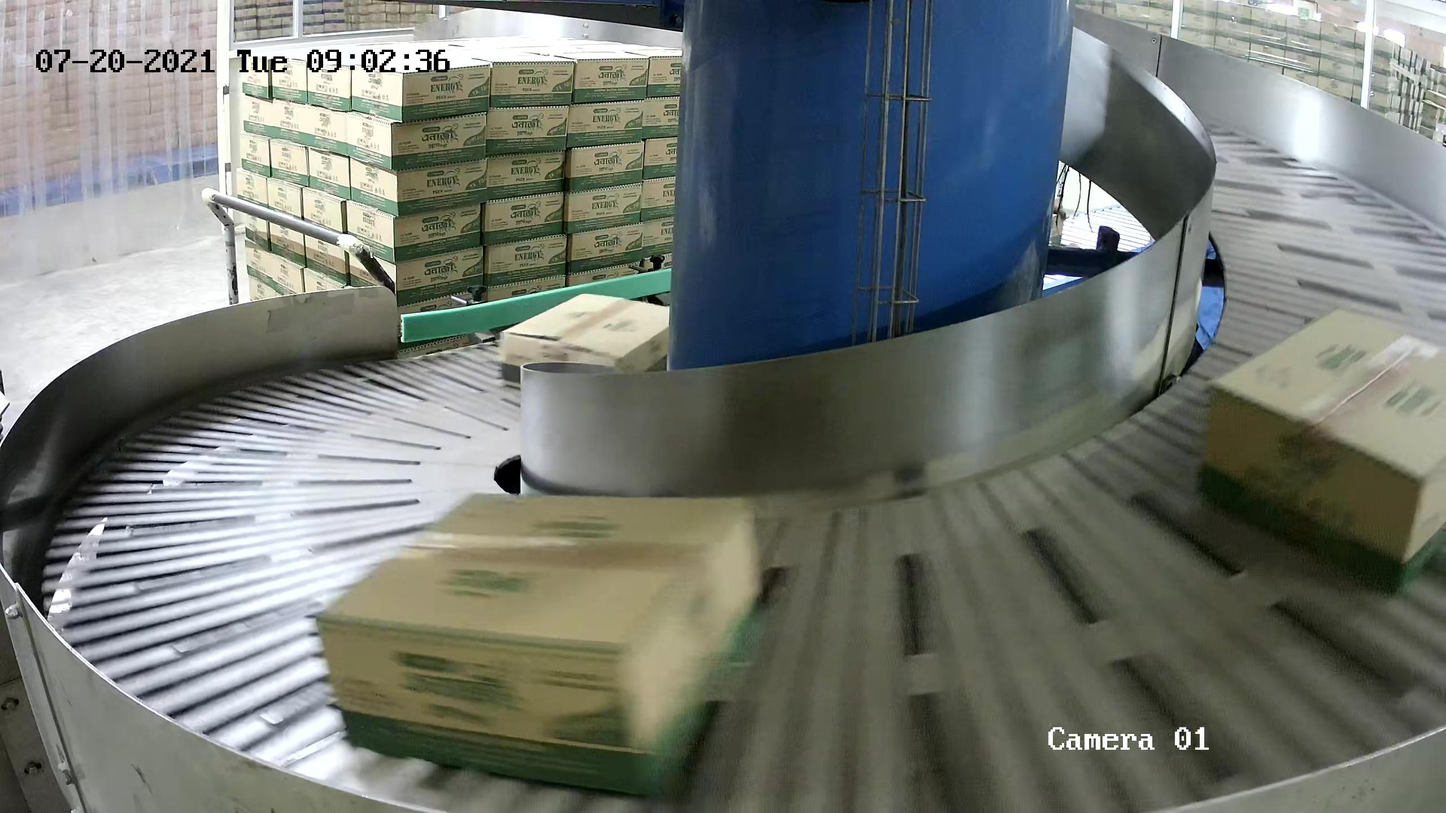Box: (315, 491, 766, 799), (1199, 305, 1446, 600), (498, 293, 685, 391)
